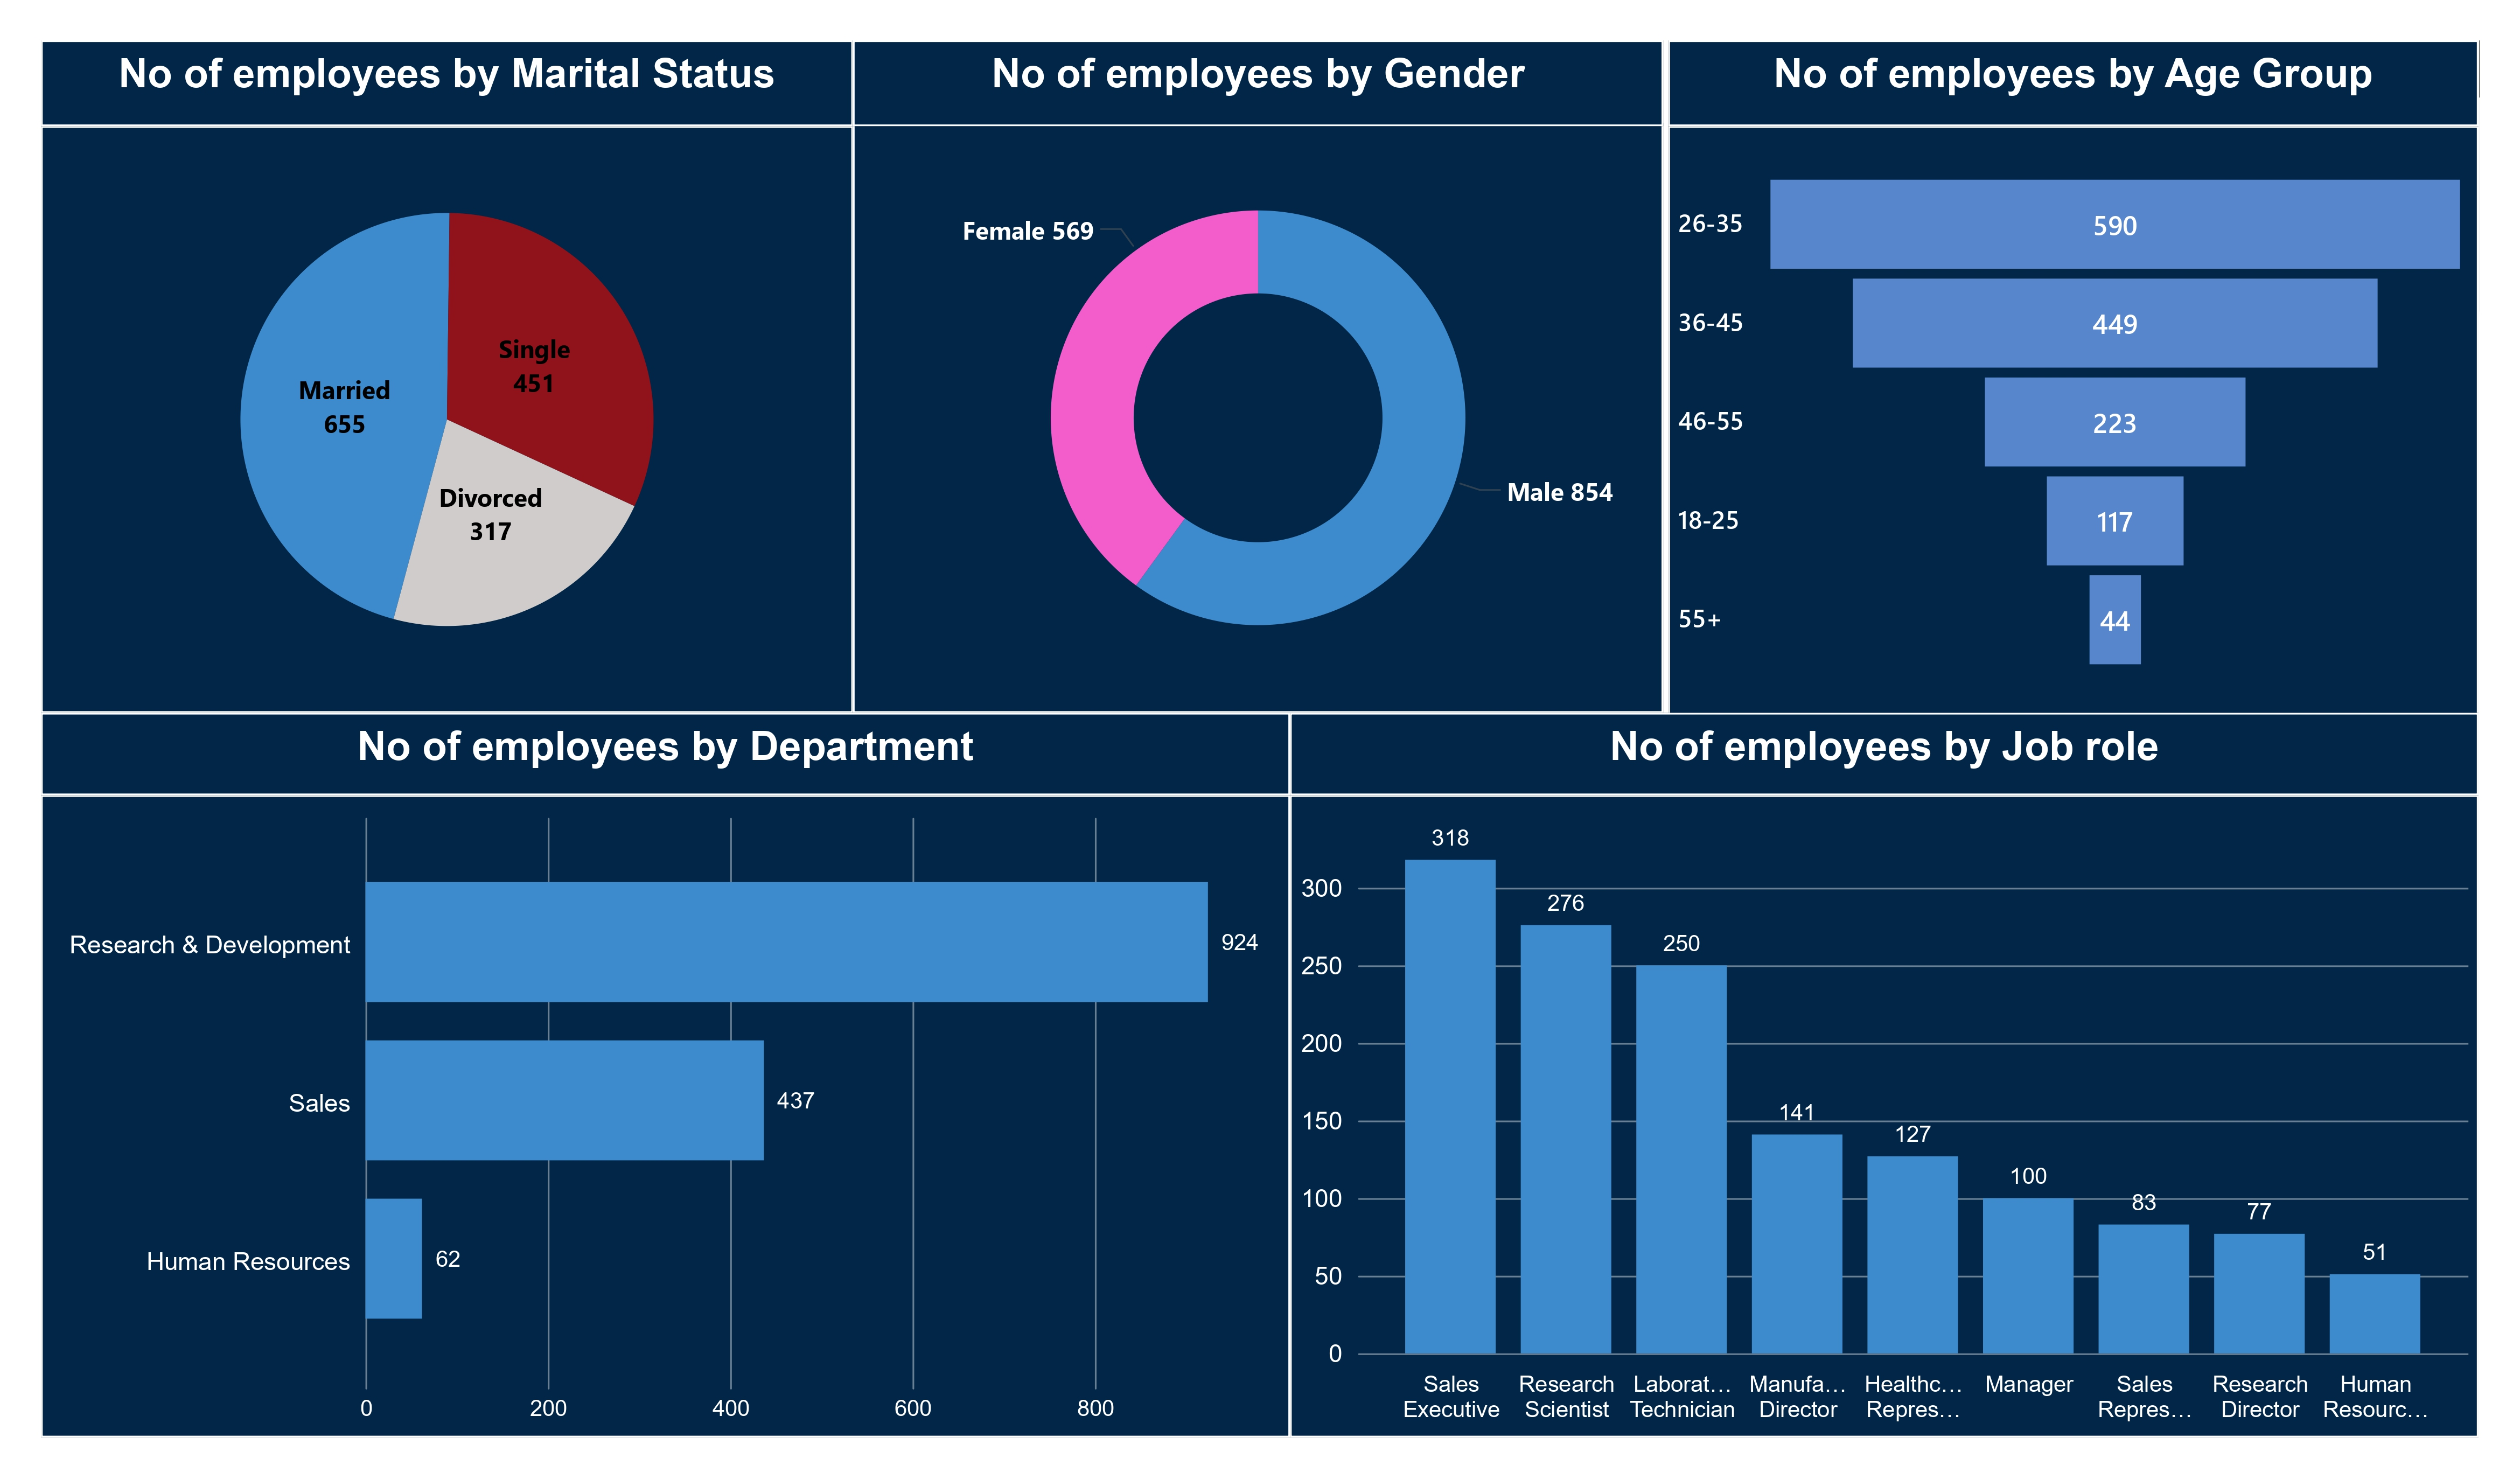

What the dashboard file says about the page in this screenshot:
{"tool":"powerbi","page":{"name":"Page 1","canvas":[1450,831],"ordinal":0},"visuals":[{"type":"pieChart","fields":{"Y":["HR_Analytics.No of employees"],"Category":["HR_Analytics.MaritalStatus"]},"box":[0,50.9,483.3,349.4],"z":0},{"type":"textbox","box":[0,0,483.3,50.9],"z":1000},{"type":"donutChart","fields":{"Category":["HR_Analytics.Gender"],"Y":["HR_Analytics.No of employees"]},"box":[483.3,49.2,481.6,351.1],"z":2000},{"type":"textbox","box":[483.3,0,481.6,50.9],"z":3000},{"type":"funnel","fields":{"Category":["HR_Analytics.AgeGroup"],"Y":["HR_Analytics.No of employees"]},"box":[968.4,50.9,481.6,351.1],"z":4000},{"type":"textbox","box":[968.4,0,481.6,50.9],"z":5000},{"type":"barChart","fields":{"Category":["HR_Analytics.Department"],"Y":["HR_Analytics.No of employees"]},"box":[0,449.4,742.8,381.6],"z":6000},{"type":"columnChart","fields":{"Category":["HR_Analytics.JobRole"],"Y":["HR_Analytics.No of employees"]},"box":[742.8,449.4,707.2,381.6],"z":7000},{"type":"textbox","box":[0,400.2,742.8,49.2],"z":8000},{"type":"textbox","box":[742.8,400.2,707.2,49.2],"z":9000}]}

Visuals, with their boxes on the page's 1450x831 design canvas (x1, y1, x2, y2). These are canvas units, not pixel positions in the 2520x1479 screenshot, which may show the page scaled, cropped or inside an application window:
pieChart - HR_Analytics.No of employees x HR_Analytics.MaritalStatus: l=0, t=51, r=483, b=400
textbox: l=0, t=0, r=483, b=51
donutChart - HR_Analytics.Gender x HR_Analytics.No of employees: l=483, t=49, r=965, b=400
textbox: l=483, t=0, r=965, b=51
funnel - HR_Analytics.AgeGroup x HR_Analytics.No of employees: l=968, t=51, r=1450, b=402
textbox: l=968, t=0, r=1450, b=51
barChart - HR_Analytics.Department x HR_Analytics.No of employees: l=0, t=449, r=743, b=831
columnChart - HR_Analytics.JobRole x HR_Analytics.No of employees: l=743, t=449, r=1450, b=831
textbox: l=0, t=400, r=743, b=449
textbox: l=743, t=400, r=1450, b=449
